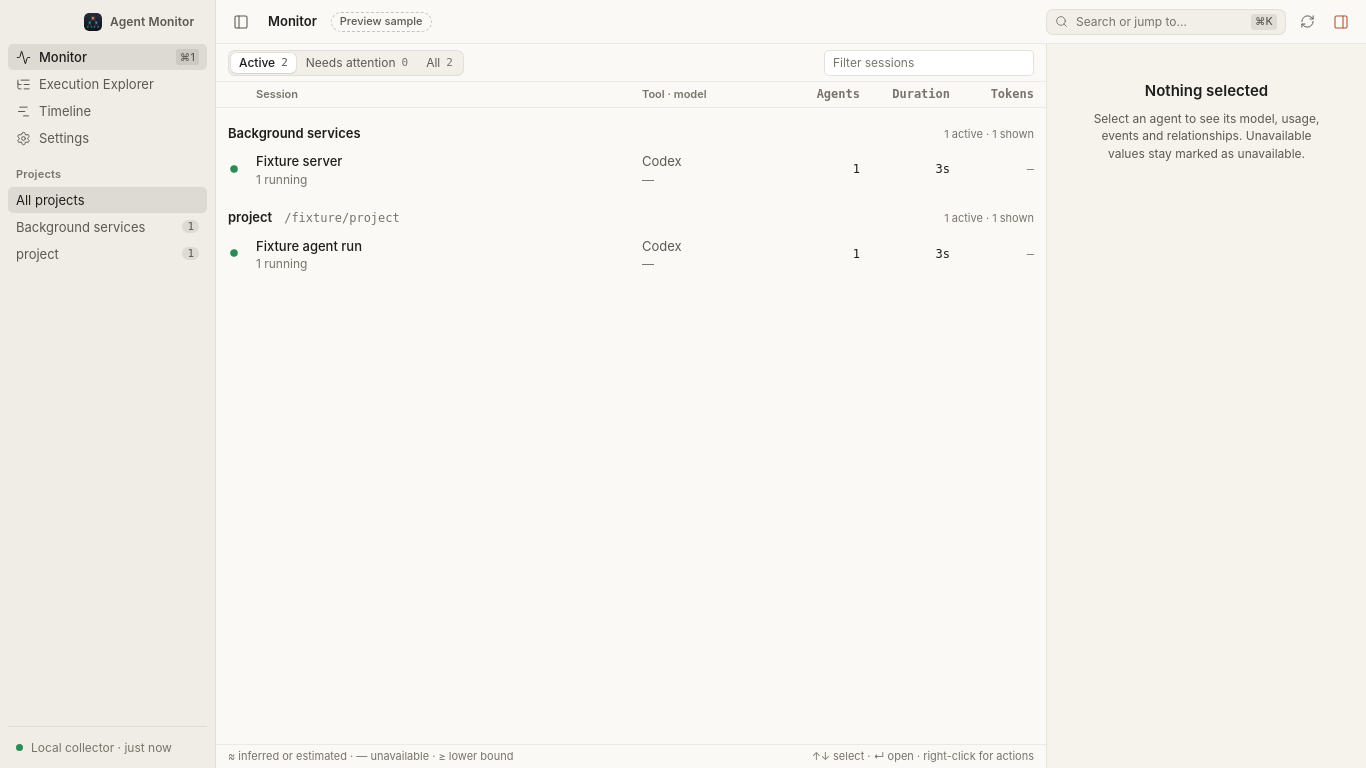
App (navigation) › never opens a background service as the default session or charts one
Expected: the text "Fixture agent run" is shown, [256,238,362,254]
Click the button "Timeline" at (108, 111), box [8,98,207,124]
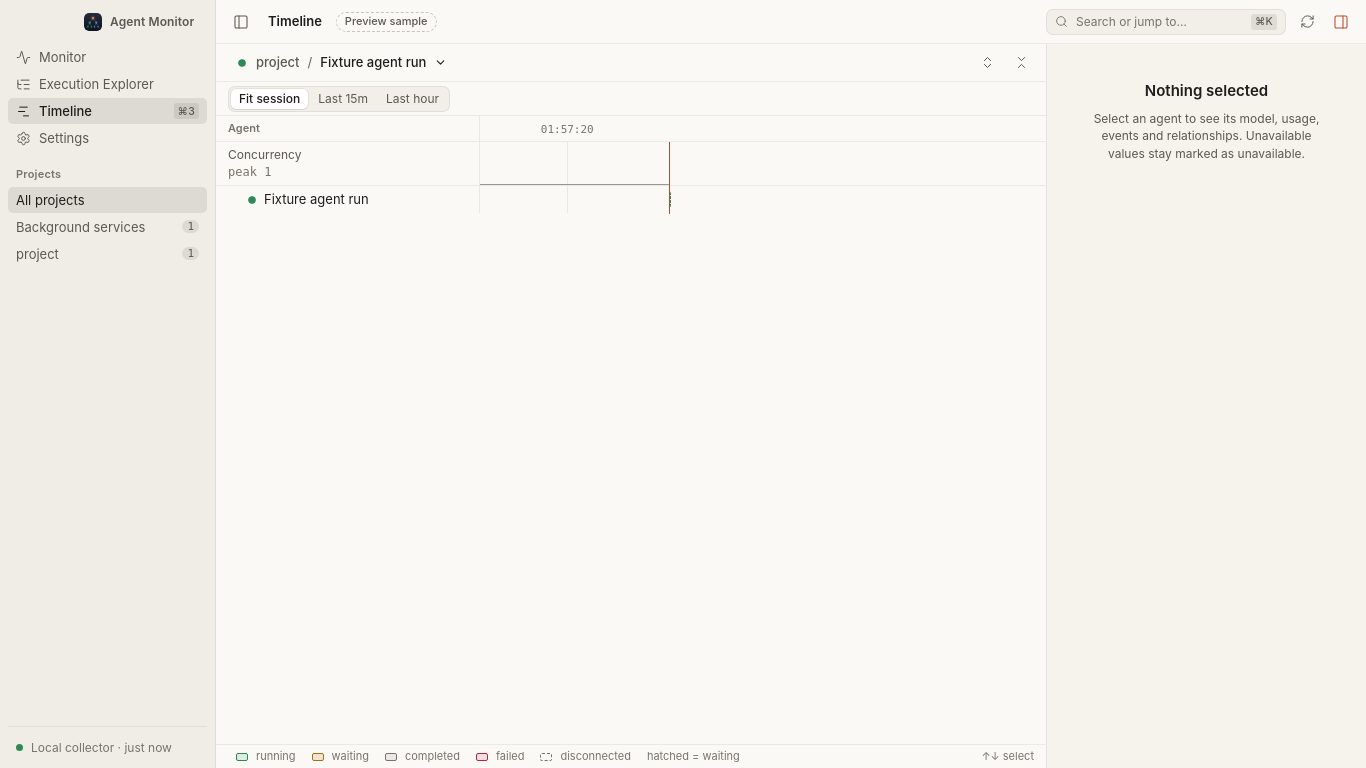
Now the heading "Timeline" is shown, box [268,12,322,31]
Now the button "project / Fixture agent run" is shown, box [228,50,455,76]
